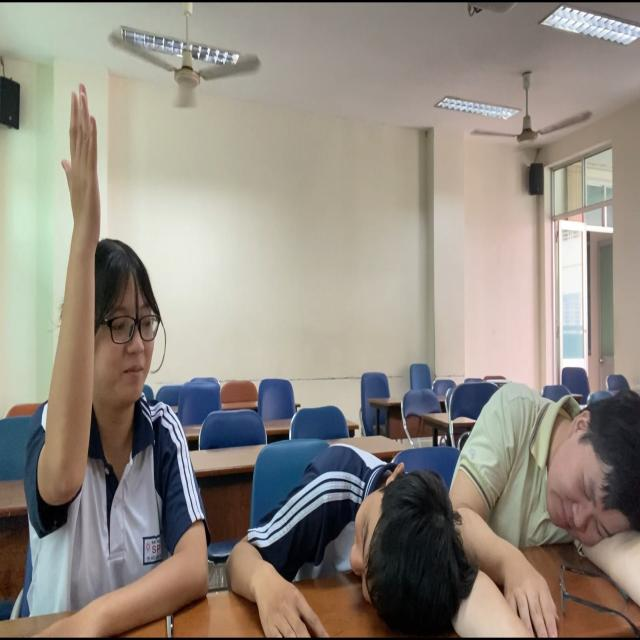sleep: (225, 442, 506, 640), (443, 378, 640, 640)
